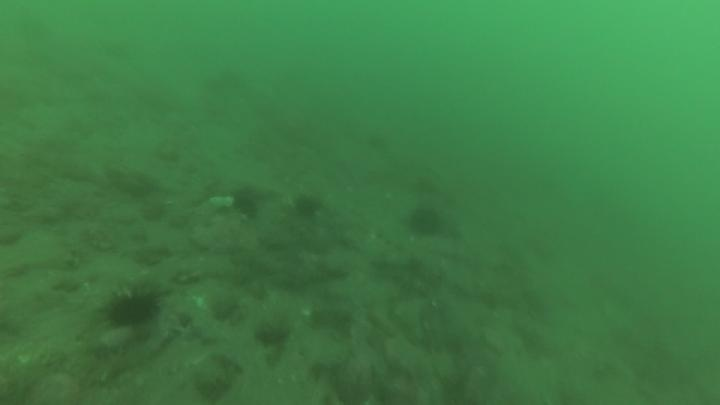echinus: (103, 287, 162, 331), (405, 204, 445, 240), (229, 187, 262, 222), (291, 191, 324, 221)
